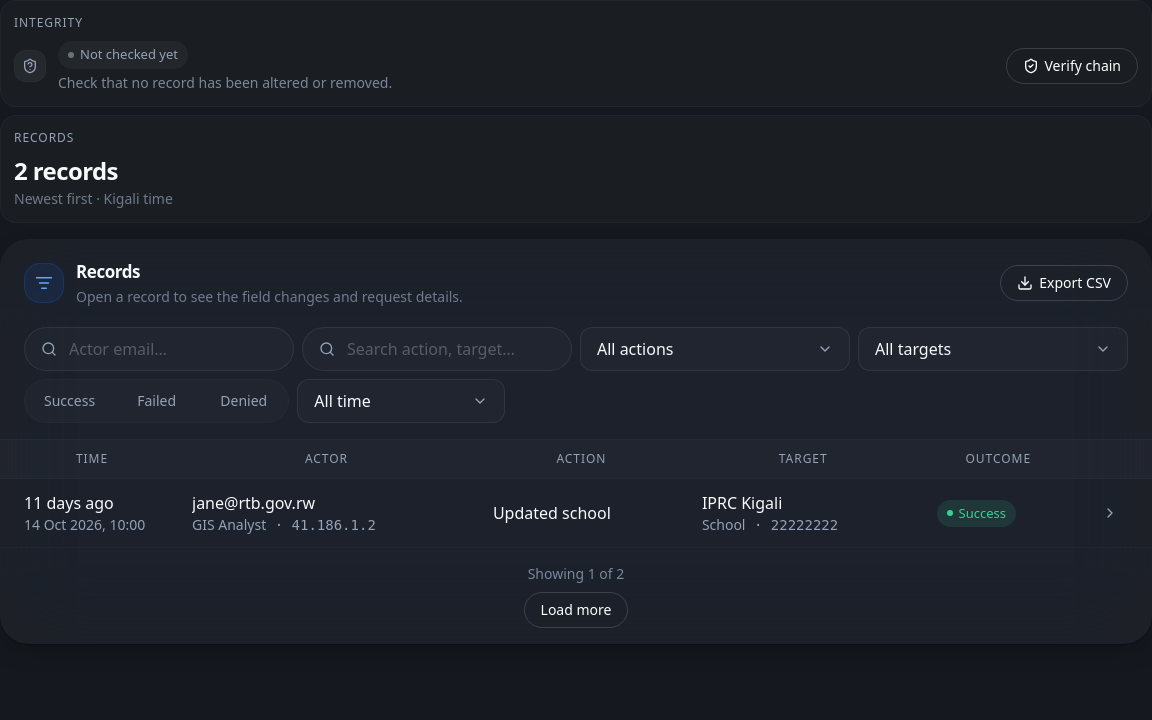
Scenario: AuditTrailTab › loads more with the cursor
Click the button "Load more" at (576, 610), box [524,592,628,628]
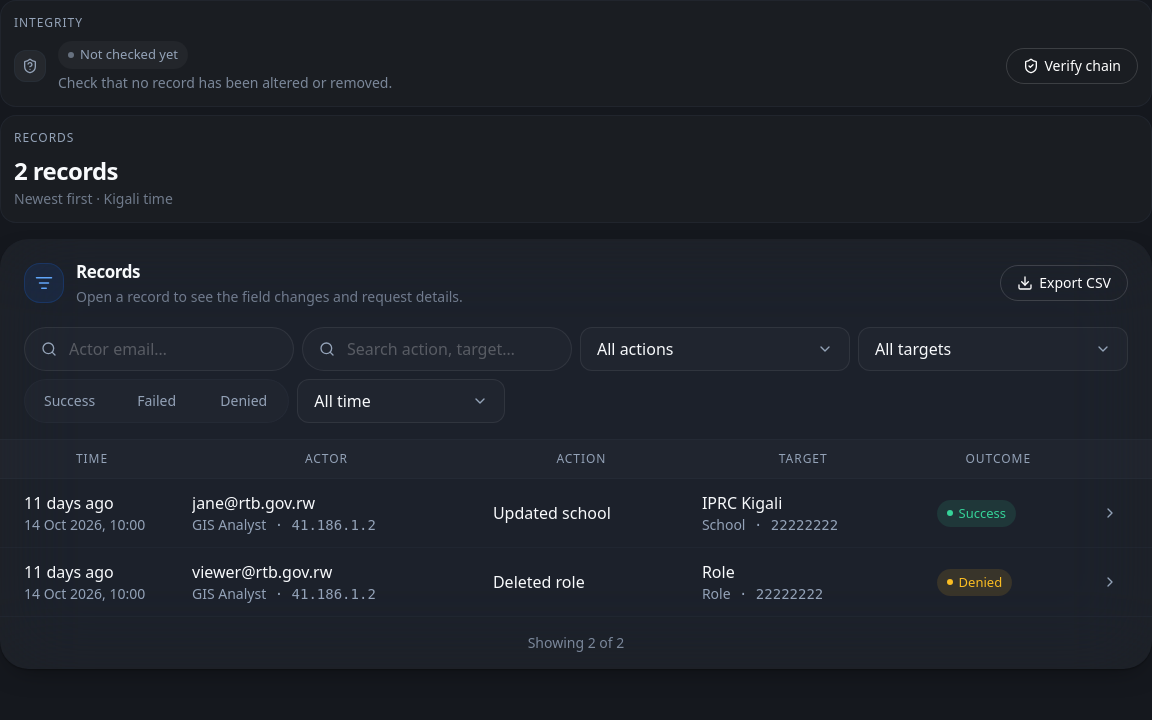
Result: the text "Deleted role" is shown at [493,571,585,593]
Result: the button "Load more" is gone
